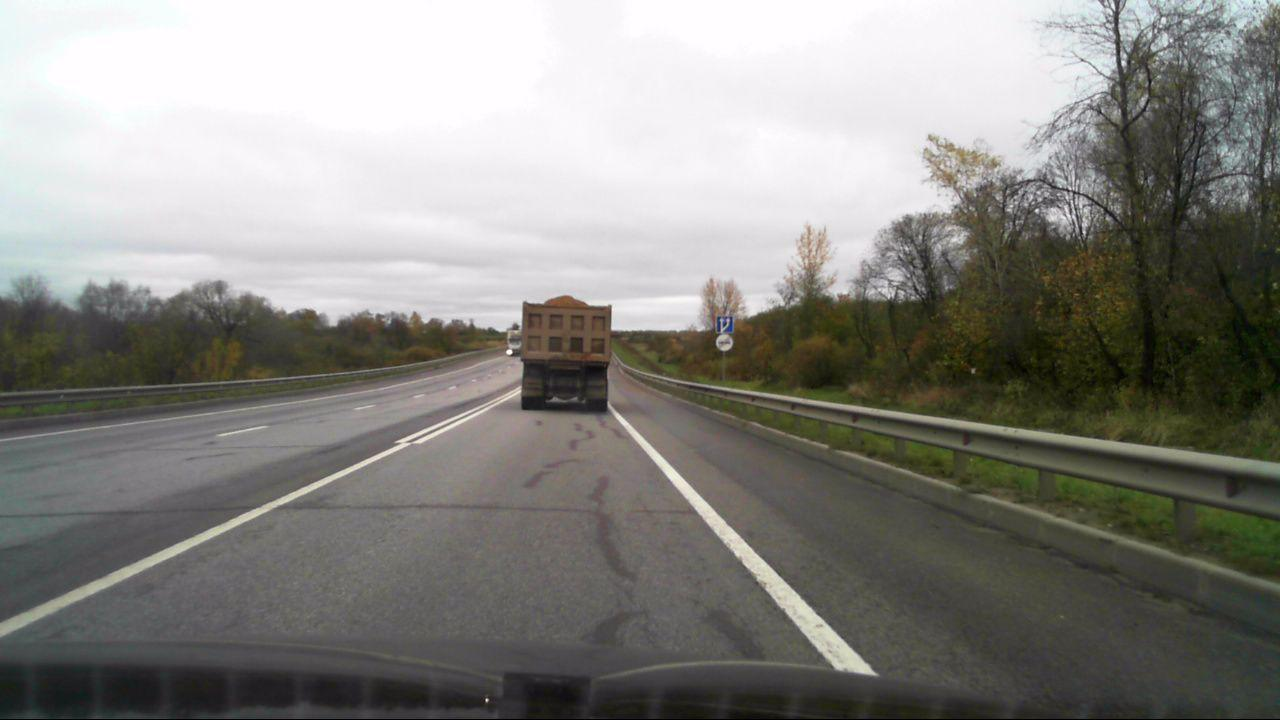3_31: (715, 334, 733, 353)
5_15_3: (715, 315, 733, 333)
